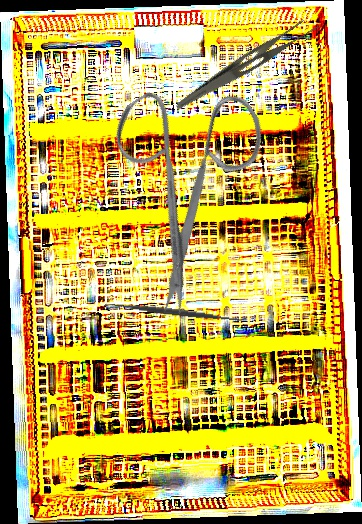Dressing Forceps: (174, 8, 321, 125)
Iris Scissors: (59, 49, 325, 321)
Spatula Surgical: (104, 295, 248, 329)
